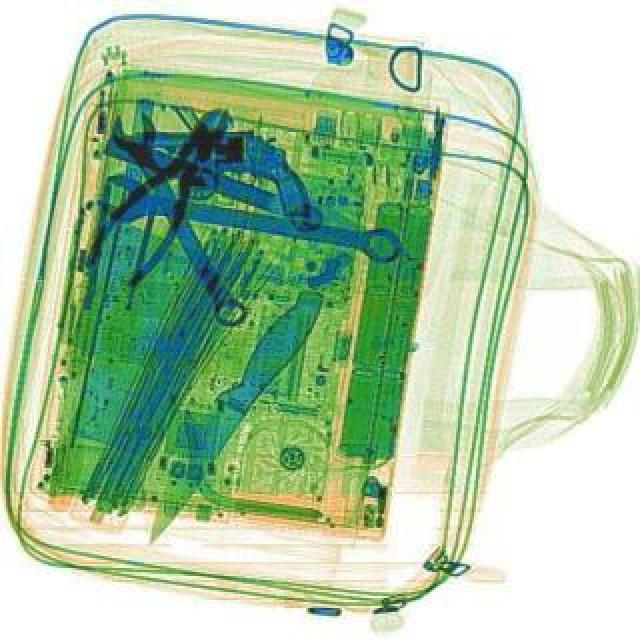gun: (134, 130, 322, 230)
knife: (128, 280, 332, 552), (102, 136, 368, 240)
scissors: (104, 104, 258, 336), (96, 172, 406, 264)
wrench: (72, 90, 252, 294)
